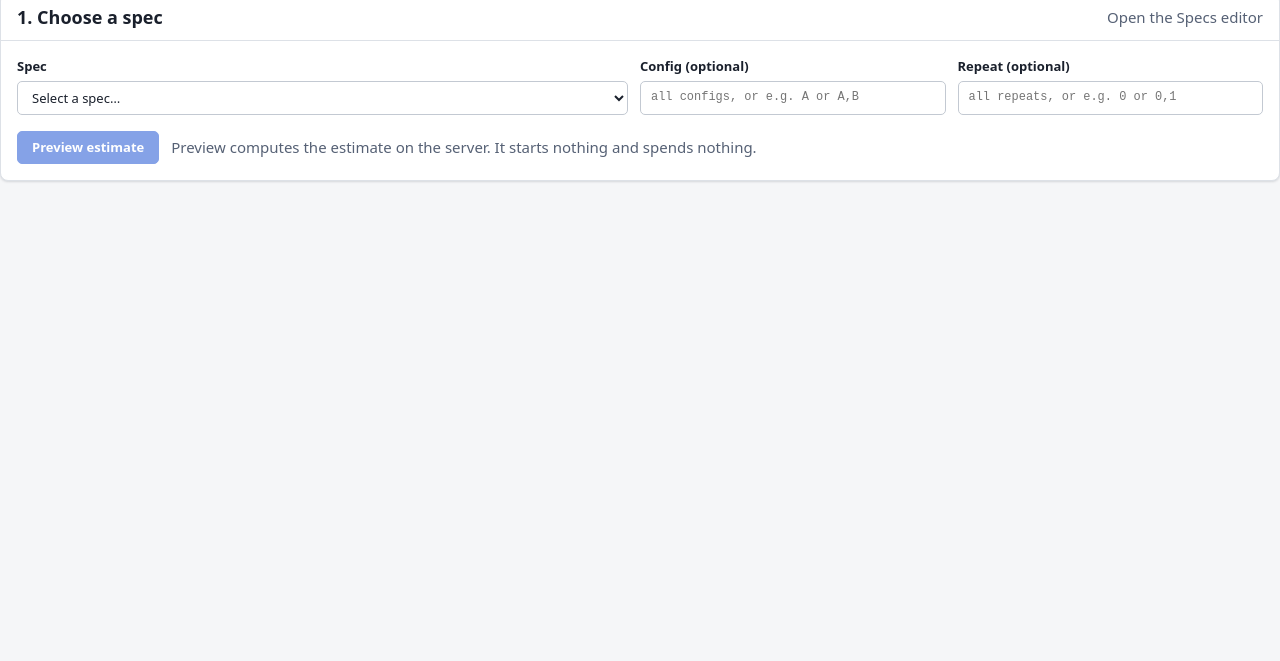
Scenario: Launch preview › renders hostile strings from the server as text
The image size is (1280, 661).
Select "pilot-scripted [scripted]" in the dropdown labelled "Spec": [322, 98] box x1=17 y1=80 x2=628 y2=114
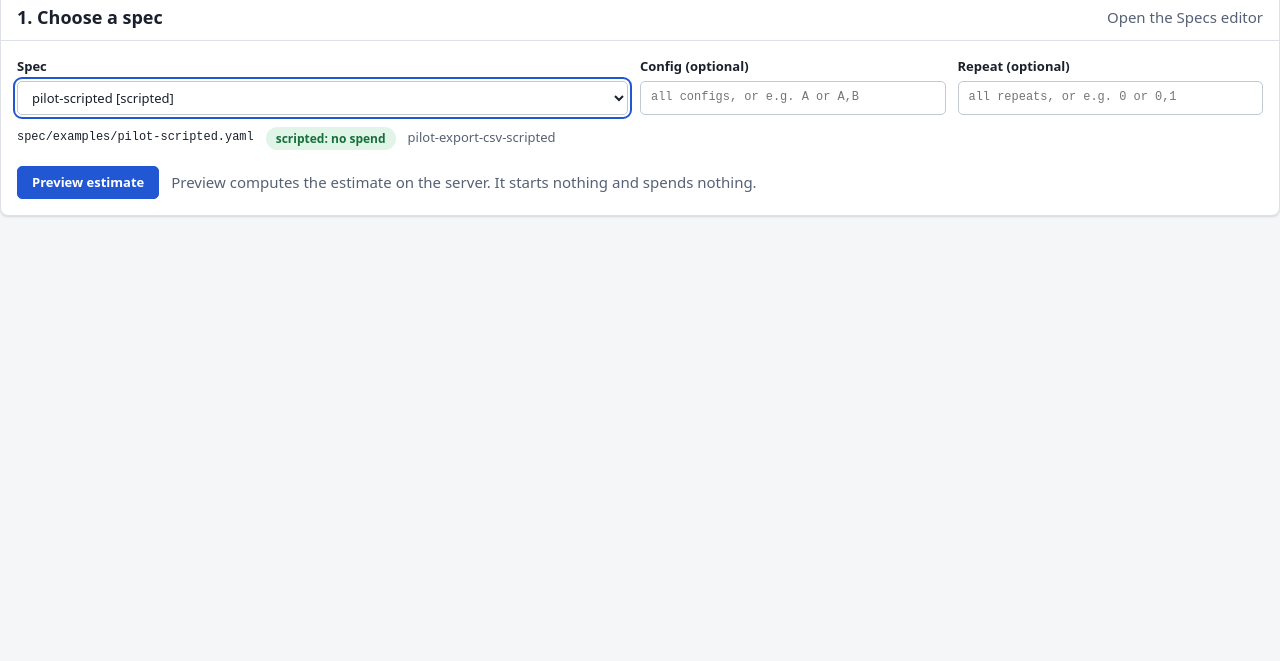
Click the button "Preview estimate": [88, 182] box x1=17 y1=166 x2=159 y2=199
(page scrolled)
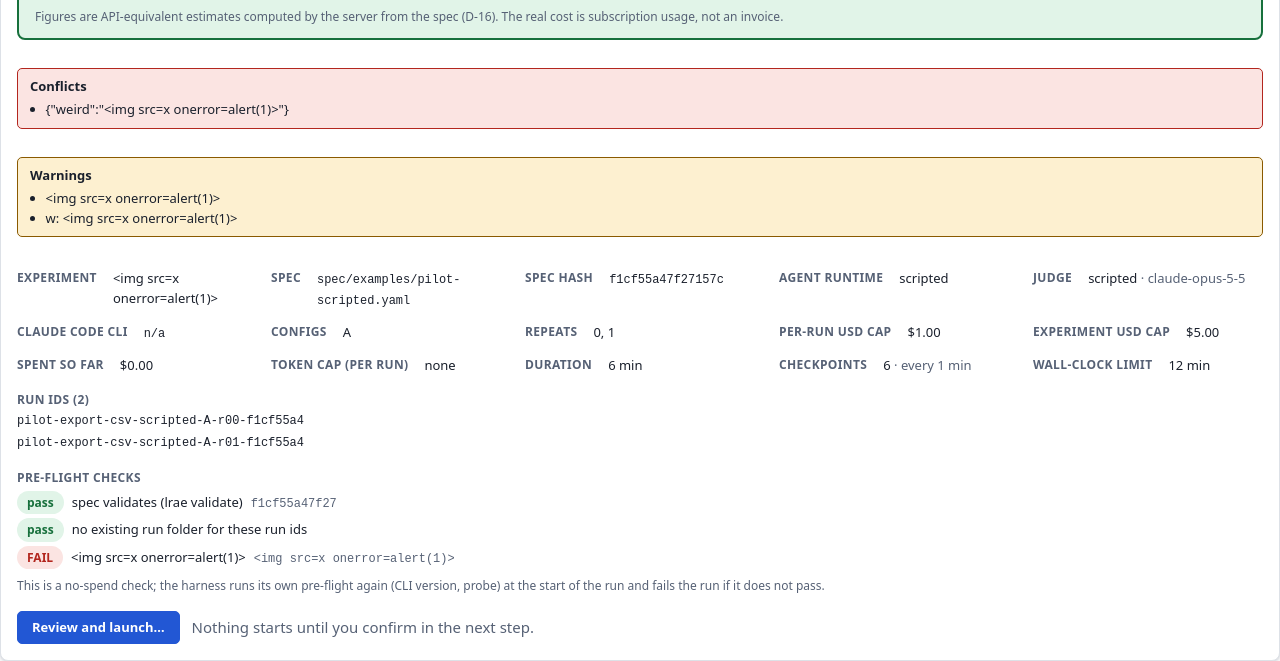
Now the text "FAIL" is shown, box x1=17 y1=546 x2=63 y2=569
